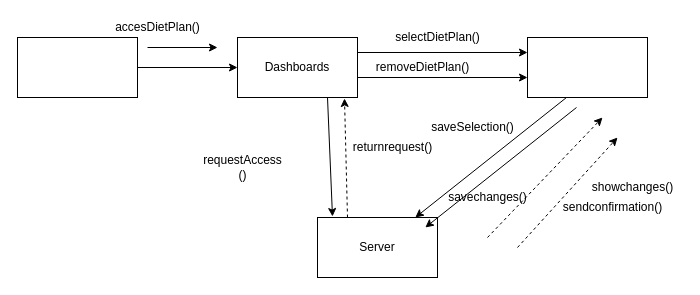
This 700x295 diagram has some shape labels left out. Each missing label, with the centre of its shape:
Customer Page: point (77, 67)
Diet Plan: point (587, 67)
